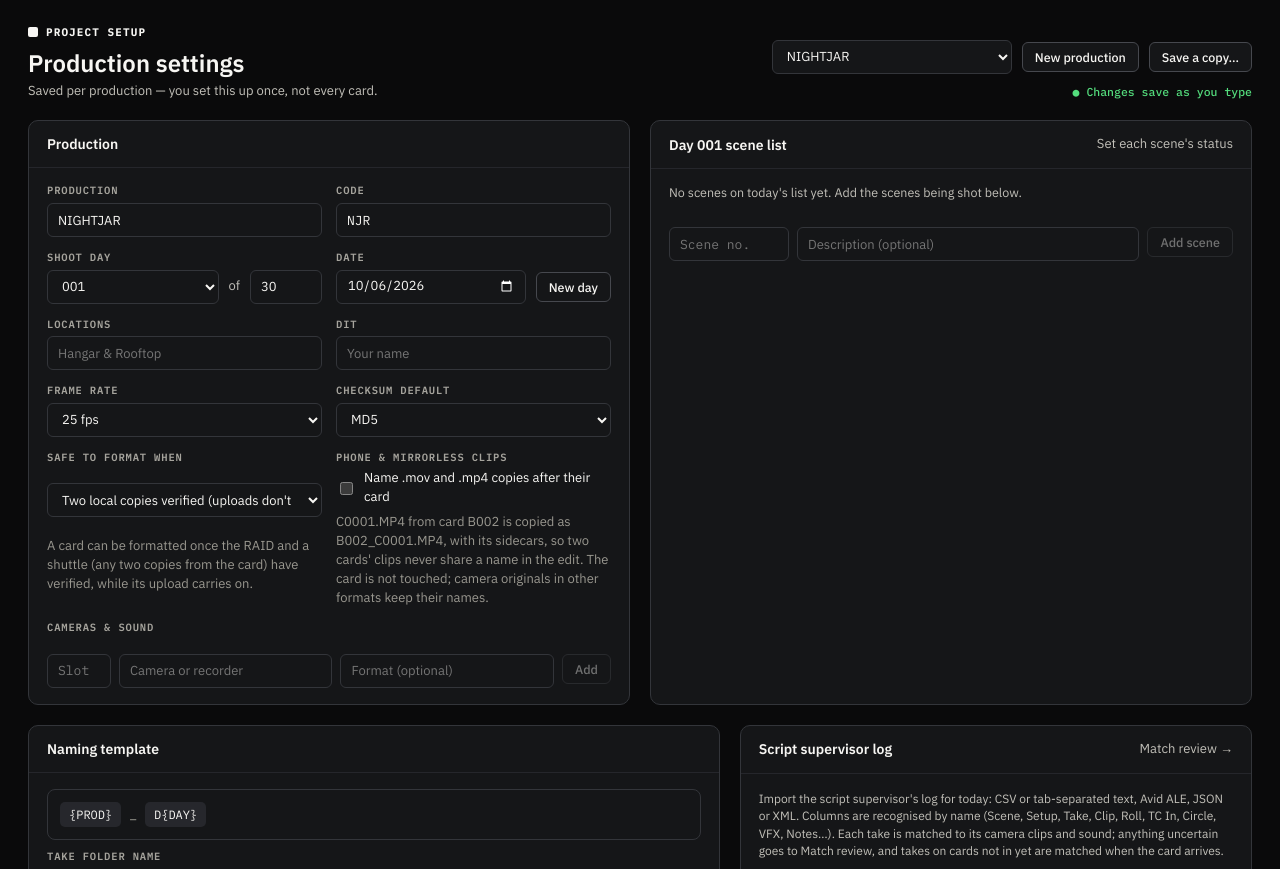
Test case: a production from the database › starts a new day through the database, and says why when it cannot switch
The image size is (1280, 869).
Click the button "New day" at (573, 287), box [536, 272, 611, 302]
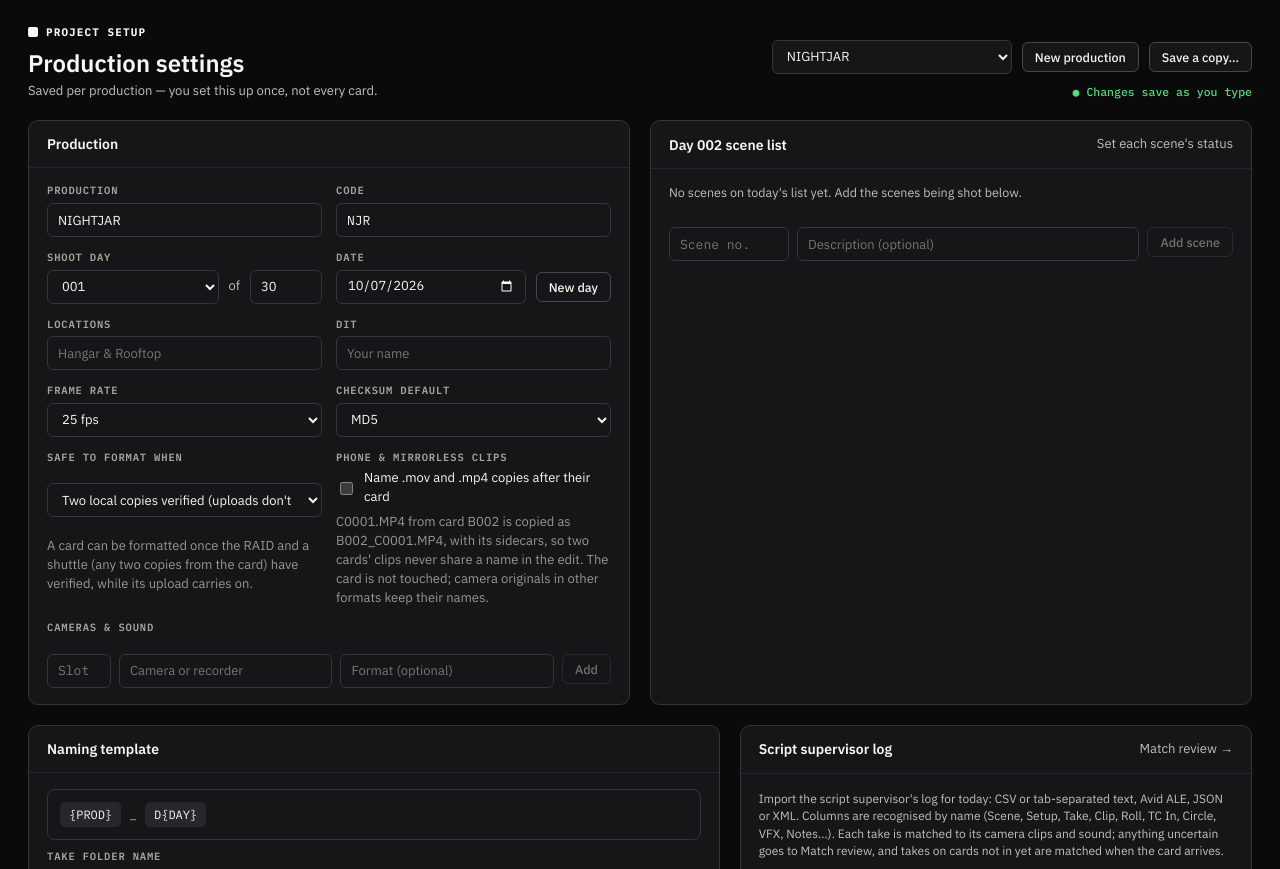
Expected: the heading "Day 002 scene list" is shown, [669, 136, 787, 154]
Select "HALCYON" in the dropdown named "Open production" at (892, 57), box [772, 40, 1012, 74]
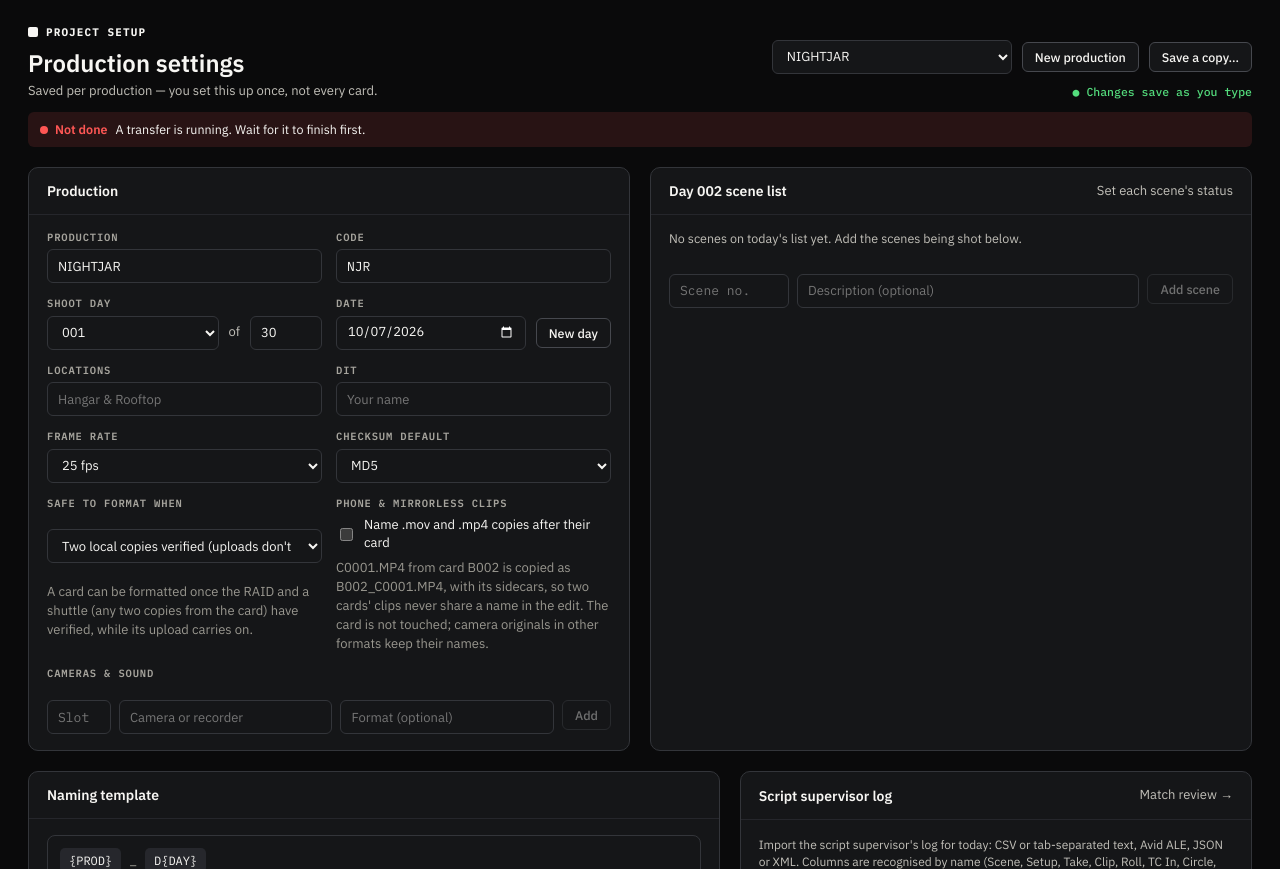
Expected: the message shows "A transfer is running", [116, 122, 365, 138]
